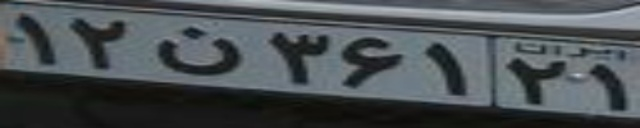1: (424, 41, 467, 94), (13, 14, 55, 65), (587, 63, 628, 110)
2: (67, 16, 128, 69), (504, 57, 567, 104)
3: (268, 31, 331, 85)
6: (338, 35, 404, 88)
non: (153, 26, 245, 76)
